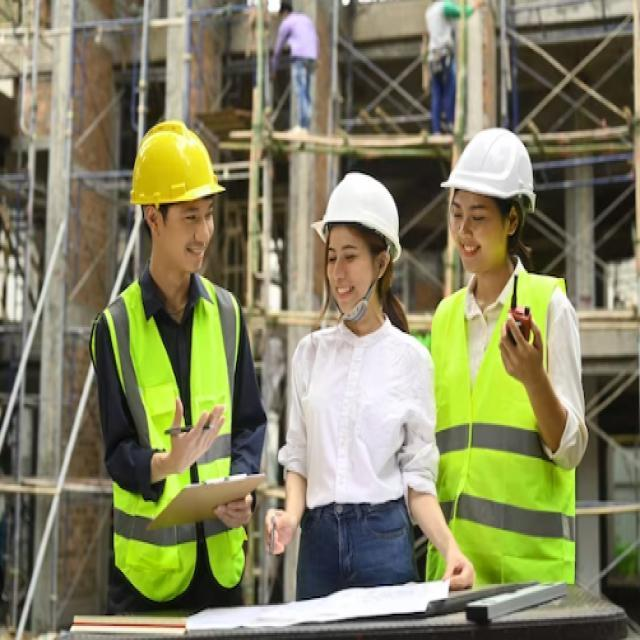helmet: (435, 124, 539, 282), (125, 114, 225, 276), (310, 166, 407, 332)
vest: (88, 273, 258, 607), (425, 270, 585, 597)
